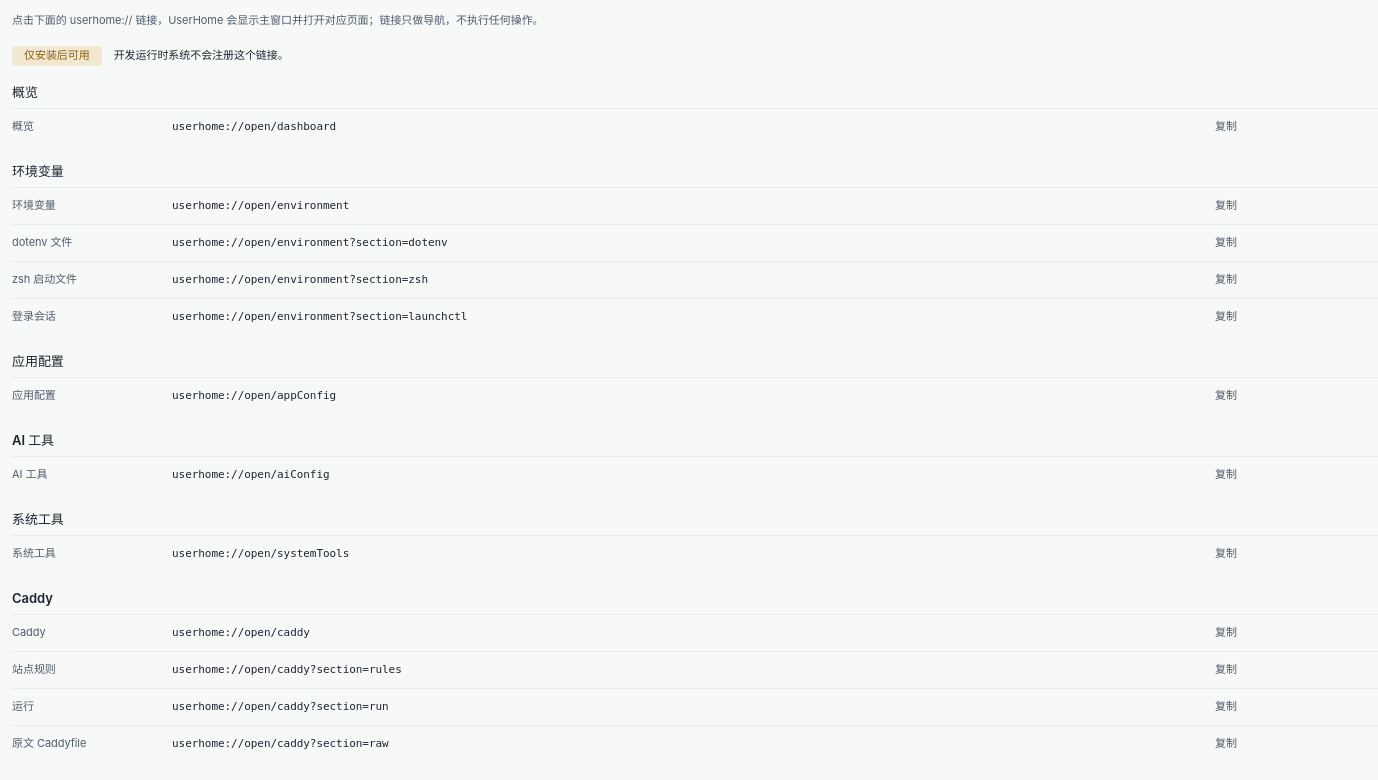
Test: DeepLinkSettings › copies one link and confirms beside that row only
Click the button "复制" in the row of "zsh 启动文件".
click(1226, 280)  # box [1202,268,1250,292]
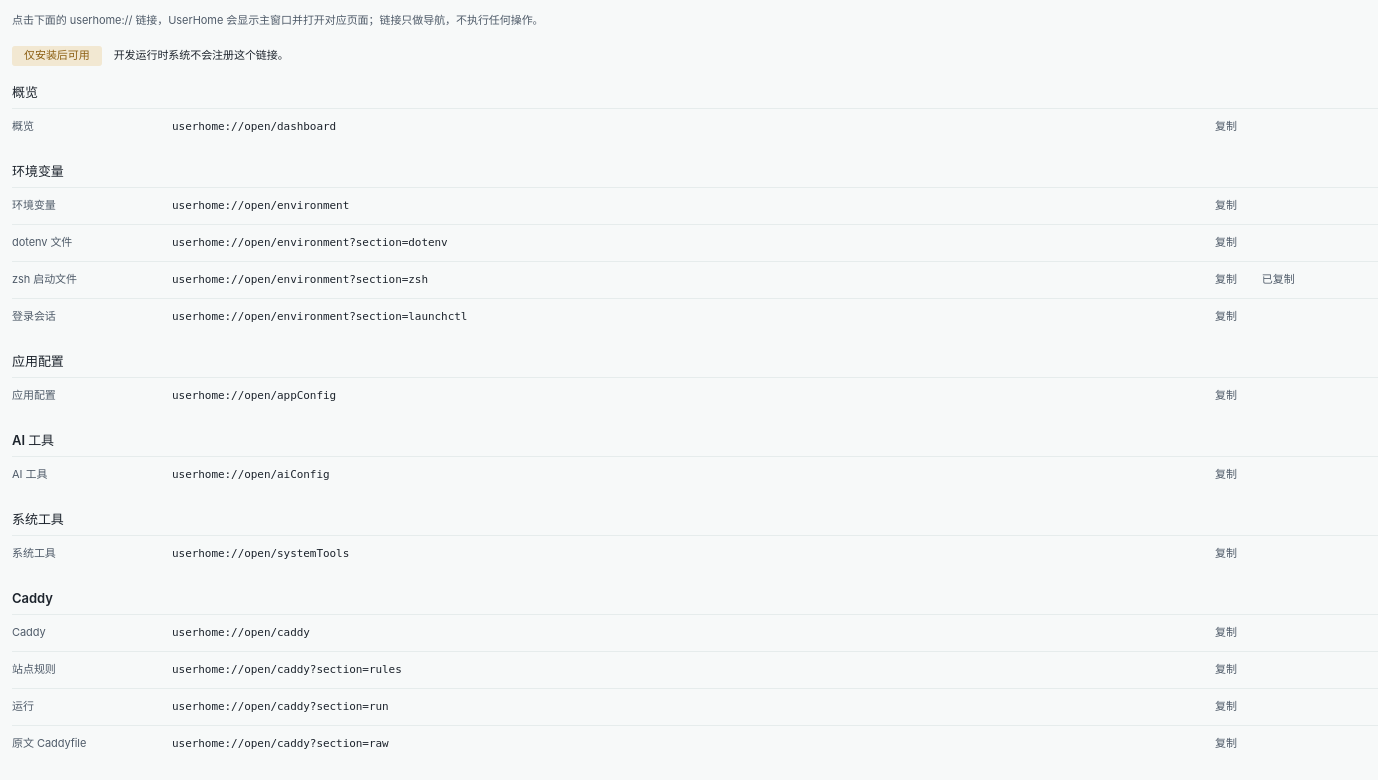
Expected: the message reads "已复制", [1262,272,1295,286]
